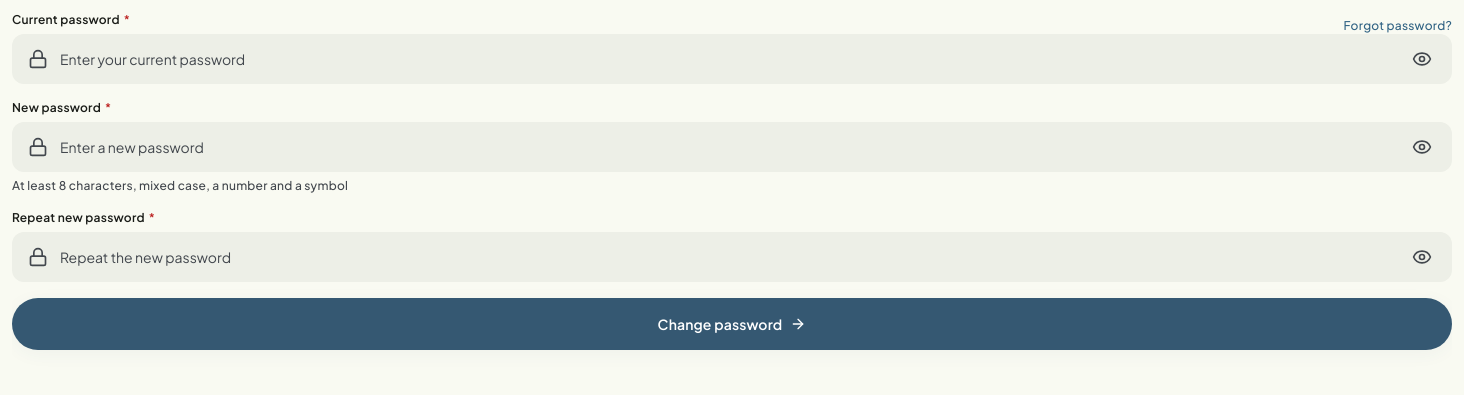
Test case: PasswordForm for an account with a password › refuses a new password that repeats the current one
Type "Chores12!" into the password field labelled "Current password".
click(732, 59); type("Chores12!")  # box [12,34,1452,84]
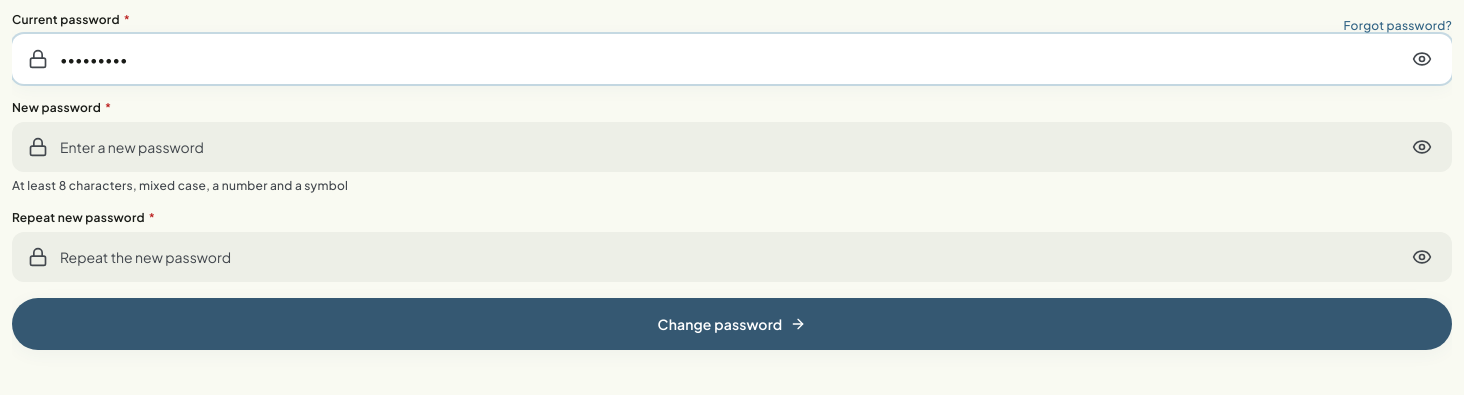
Type "Chores12!" into the password field labelled "New password".
click(732, 147); type("Chores12!")  # box [12,122,1452,172]
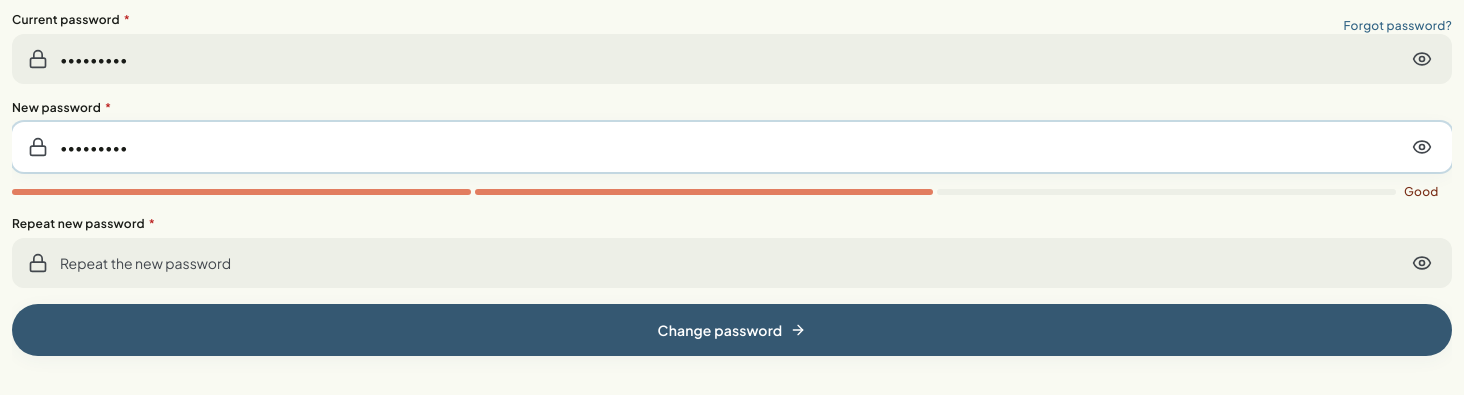
Press Tab
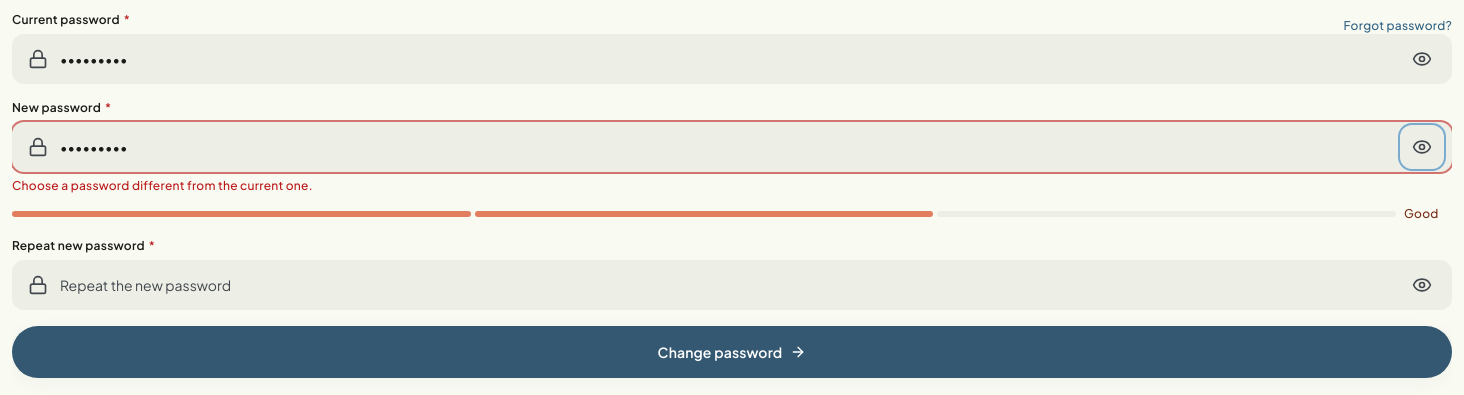
Now the text "Choose a password different from the current one." is shown, box [12,178,313,193]
